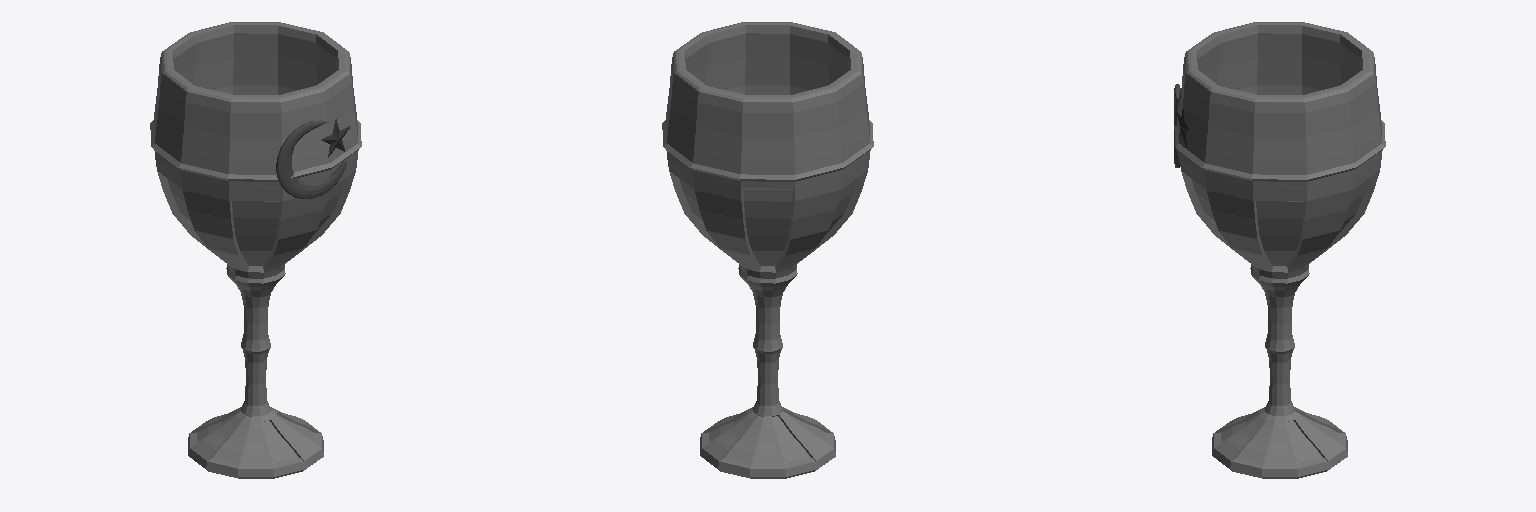
The model's file is calice_islamico.obj.
3 views of the same model, side by side, from view 1: azimuth 30°, elevation 25°; view 2: azimuth 150°, elevation 25°; view 3: azimuth 270°, elevation 25° (orthographic).
Parts seen in each view (by area): view 1: pCylinder13; view 2: pCylinder13; view 3: pCylinder13.
Boxes of the visible parts, box(x1,y1,x2,y2) form: pCylinder13: box(150, 22, 361, 478); pCylinder13: box(662, 22, 873, 478); pCylinder13: box(1174, 22, 1385, 478).
Bounding box in the file's own units: 2.6 × 5.31 × 2.6.